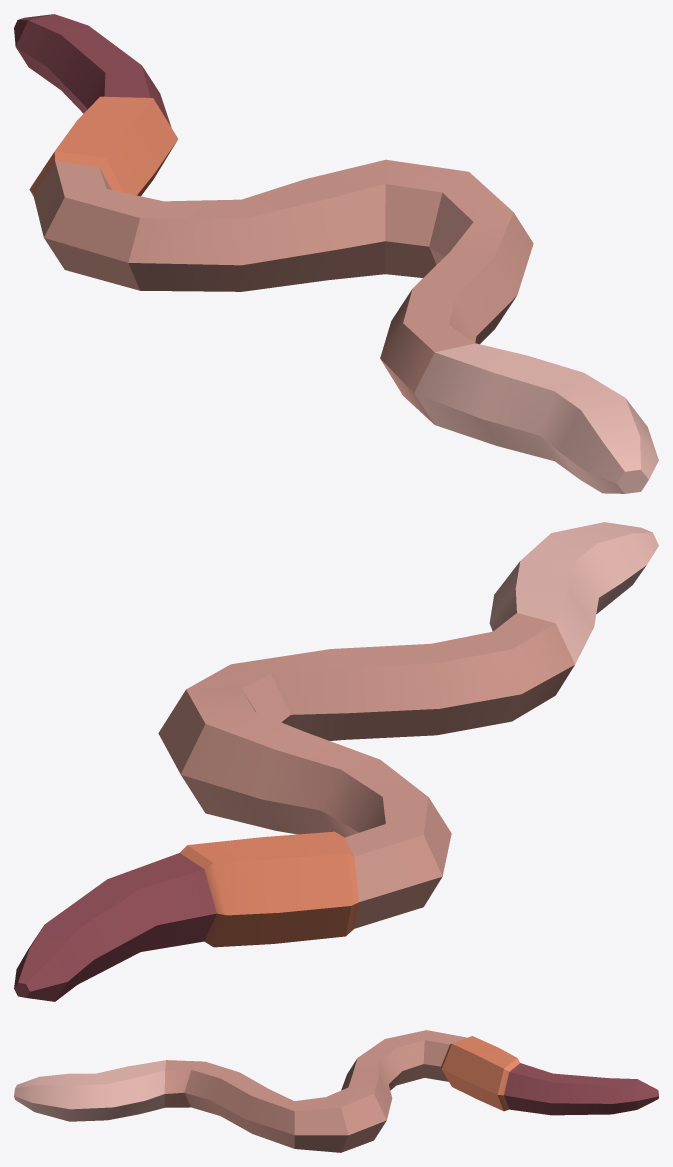
File: 14fc2073-8fdd-4a17-8bc3-c4388511a225.glb
3 views of the same model, one above another, from view 1: azimuth 30°, elevation 25°; view 2: azimuth 150°, elevation 25°; view 3: azimuth 270°, elevation 25° (orthographic). The views are drawn at different scales.
Visible parts, largest first — view 1: Geo_Earthworm; view 2: Geo_Earthworm; view 3: Geo_Earthworm.
Boxes of the visible parts, <box> form: Geo_Earthworm: <box>14,14,658,493</box>; Geo_Earthworm: <box>14,522,658,1001</box>; Geo_Earthworm: <box>14,1030,658,1152</box>.
Size of the model in its own units: 17.65 by 4.2 by 52.55.
Materials: 1 (1 with a texture image).
